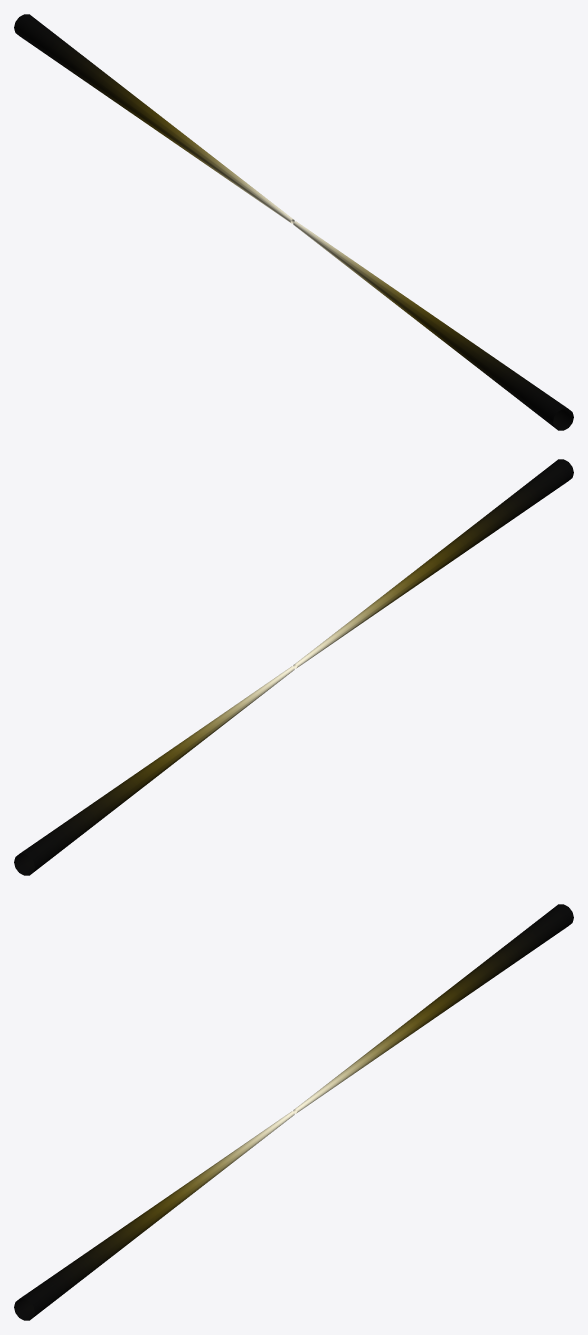
File: light-lhl.glb
3 renders of one model, top to bottom at view 1: azimuth 30°, elevation 25°; view 2: azimuth 150°, elevation 25°; view 3: azimuth 330°, elevation 25°, orthographic.
Visible parts, largest first — view 1: pasted__pCylinder14; view 2: pasted__pCylinder14; view 3: pasted__pCylinder14.
Part boxes in pixels (bbox=[...]): pasted__pCylinder14: bbox=[14, 14, 573, 430]; pasted__pCylinder14: bbox=[14, 459, 573, 875]; pasted__pCylinder14: bbox=[14, 904, 573, 1320].
Bounding box in the file's own units: 2.08 × 2.08 × 92.49.
Materials: 1 (1 with a texture image).
